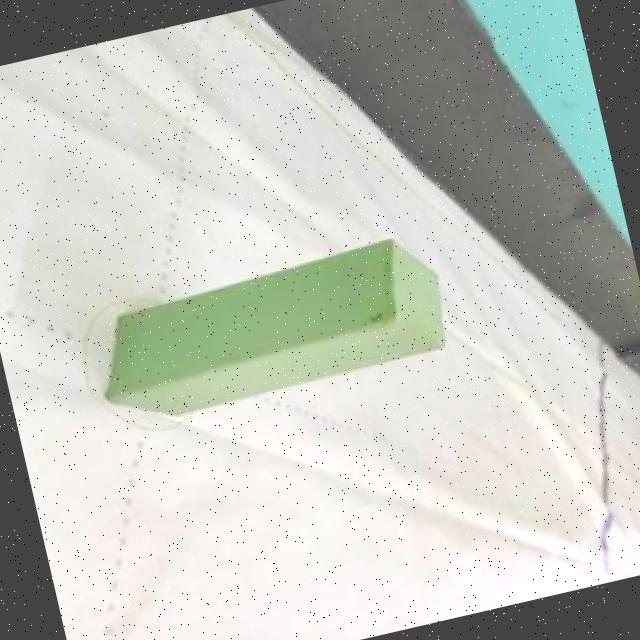greenbox: (83, 228, 457, 432)
